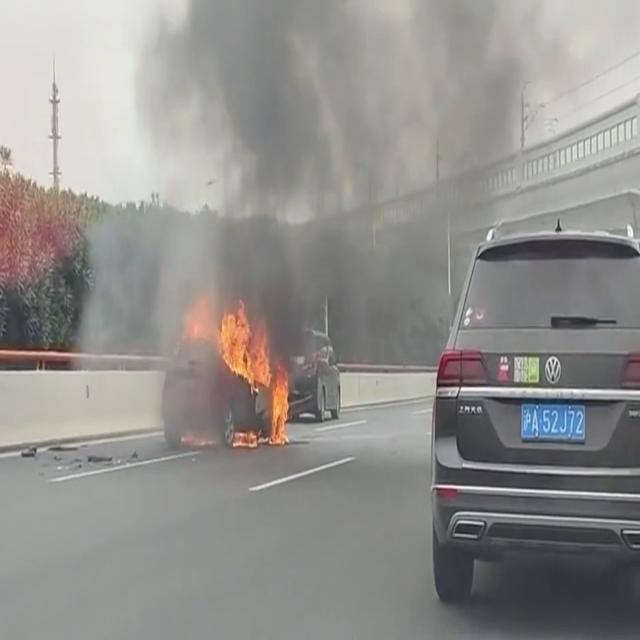multiple_accident: (107, 197, 375, 473)
normal: (337, 0, 640, 640)
